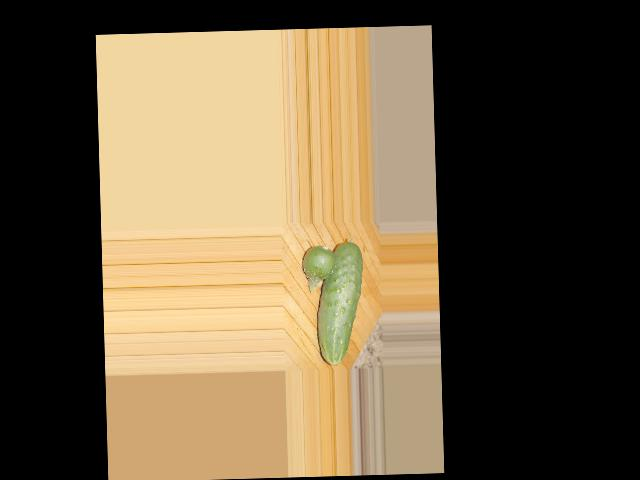cucumber: (314, 241, 365, 366)
